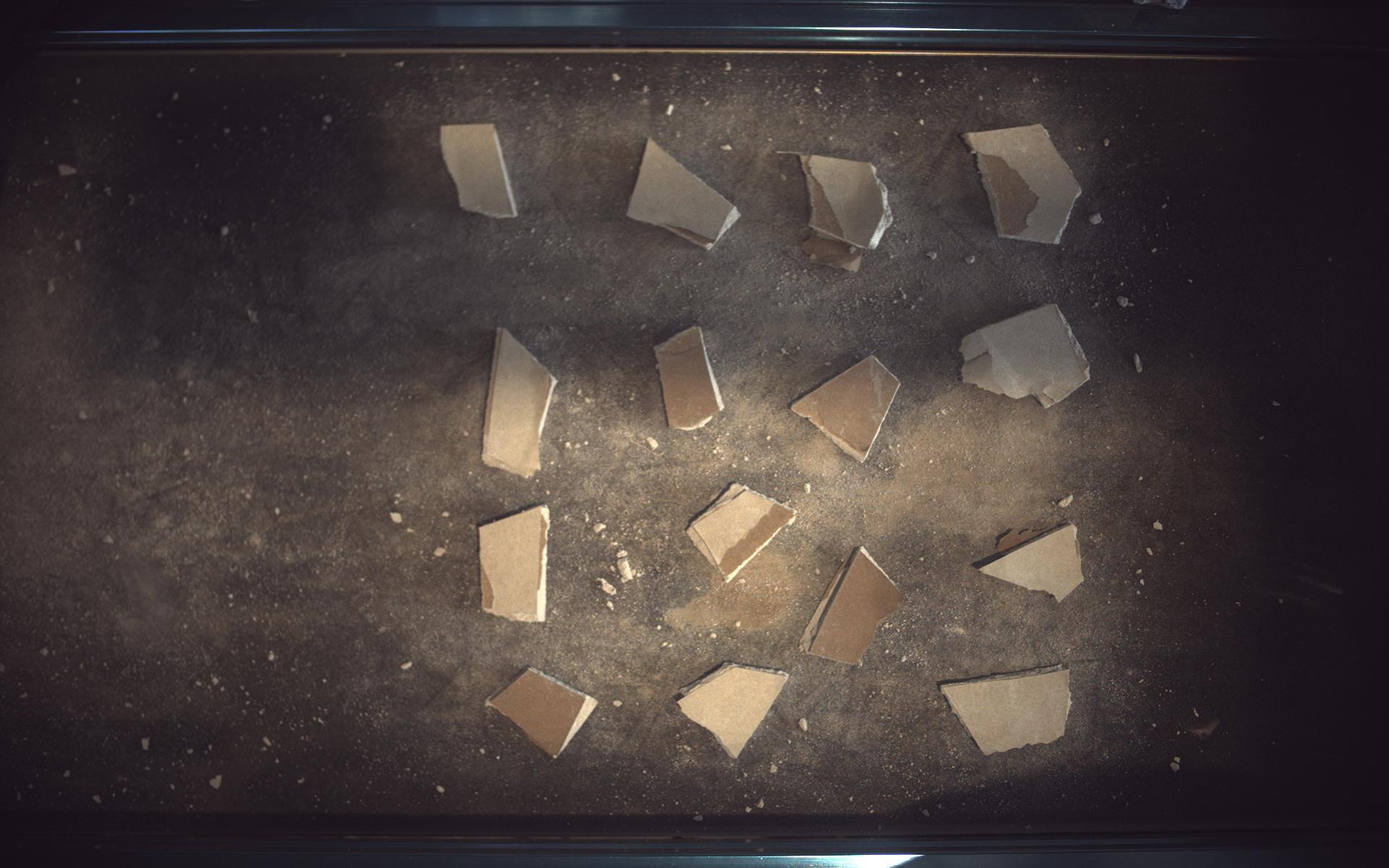gypsum_board: (965, 123, 1084, 243), (962, 304, 1092, 408), (628, 137, 742, 250), (791, 153, 894, 271), (802, 547, 905, 665), (943, 667, 1073, 757), (793, 355, 902, 462), (482, 327, 558, 477), (688, 483, 798, 582), (679, 665, 790, 760), (485, 668, 598, 760), (977, 524, 1086, 603), (479, 506, 551, 623), (440, 122, 518, 218), (655, 326, 725, 430)
